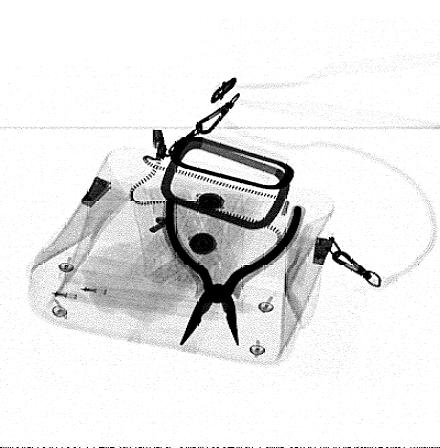Pliers: (161, 196, 303, 348)
